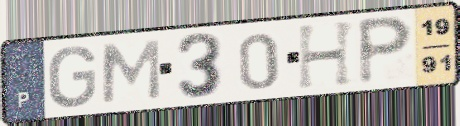0: (236, 31, 284, 91)
3: (175, 31, 227, 102)
G: (46, 44, 98, 110)
H: (295, 18, 359, 92)
M: (99, 37, 163, 105)
P: (356, 14, 416, 88)
